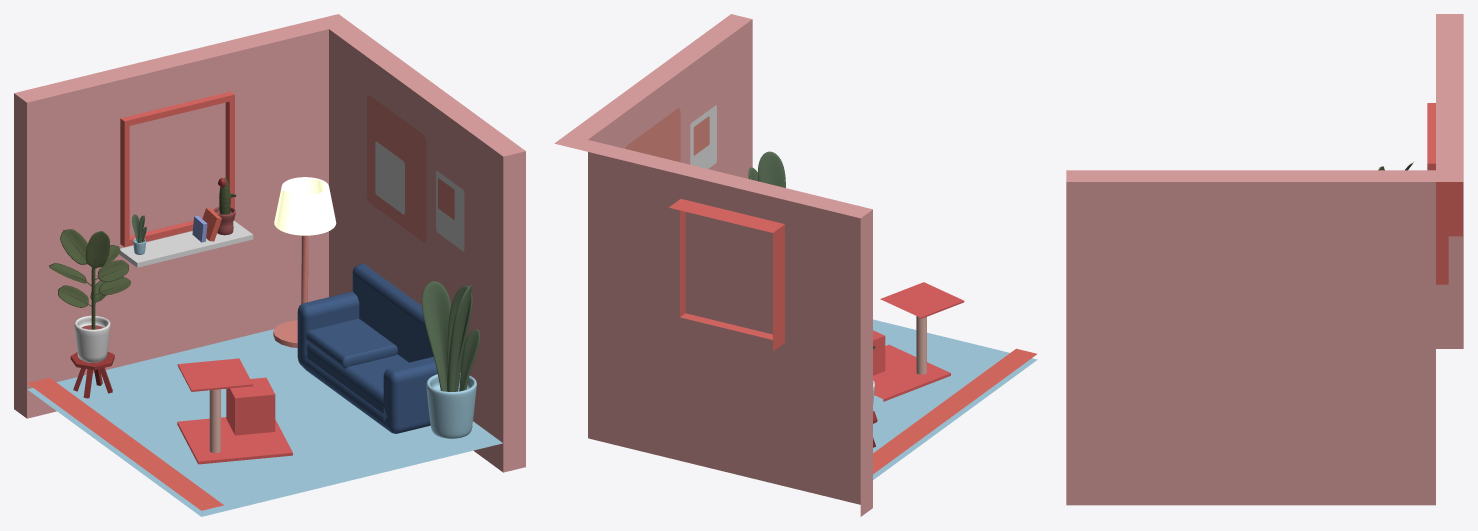
The model's file is roomTest.glb.
The picture shows the model from 3 angles, left to right: view 1: azimuth 30°, elevation 25°; view 2: azimuth 150°, elevation 25°; view 3: azimuth 270°, elevation 25°; orthographic projection. The views are drawn at different scales.
Visible parts, largest first — view 1: Cube, Plane.001, Cube.013, Plane.002, Cube.014, Plane, Cube.007, RamasMerge, Cube.002, Pantalla, Cube.015, Cube.006 (+12 smaller); view 2: Cube, Plane.001, Cube.007, Plane, Cube.002, Plane.002, Cube.001, Plane.004, Hojas1.001, Cylinder; view 3: Cube, Cube.007.
Part boxes in pixels (<box>): Cube: <box>14,14,525,472</box>; Plane.001: <box>27,329,502,516</box>; Cube.013: <box>297,291,437,433</box>; Plane.002: <box>367,95,426,242</box>; Cube.014: <box>352,263,433,362</box>; Plane: <box>27,378,223,510</box>; Cube.007: <box>120,91,234,246</box>; RamasMerge: <box>49,229,130,329</box>; Cube.002: <box>177,417,292,464</box>; Pantalla: <box>274,177,336,235</box>; Cube.015: <box>306,318,397,368</box>; Cube.006: <box>226,377,275,435</box>; Cube: <box>554,14,872,516</box>; Plane.001: <box>873,319,1037,479</box>; Cube.007: <box>669,199,784,351</box>; Plane: <box>873,348,1036,473</box>; Cube.002: <box>873,344,950,401</box>; Plane.002: <box>625,108,680,162</box>; Cube.001: <box>880,282,964,319</box>; Plane.004: <box>690,105,716,168</box>; Hojas1.001: <box>758,151,785,187</box>; Cylinder: <box>916,316,926,374</box>; Cube: <box>1066,14,1463,505</box>; Cube.007: <box>1427,103,1462,284</box>.
Bounding box in the file's own units: 2.15 × 2 × 2.15.
